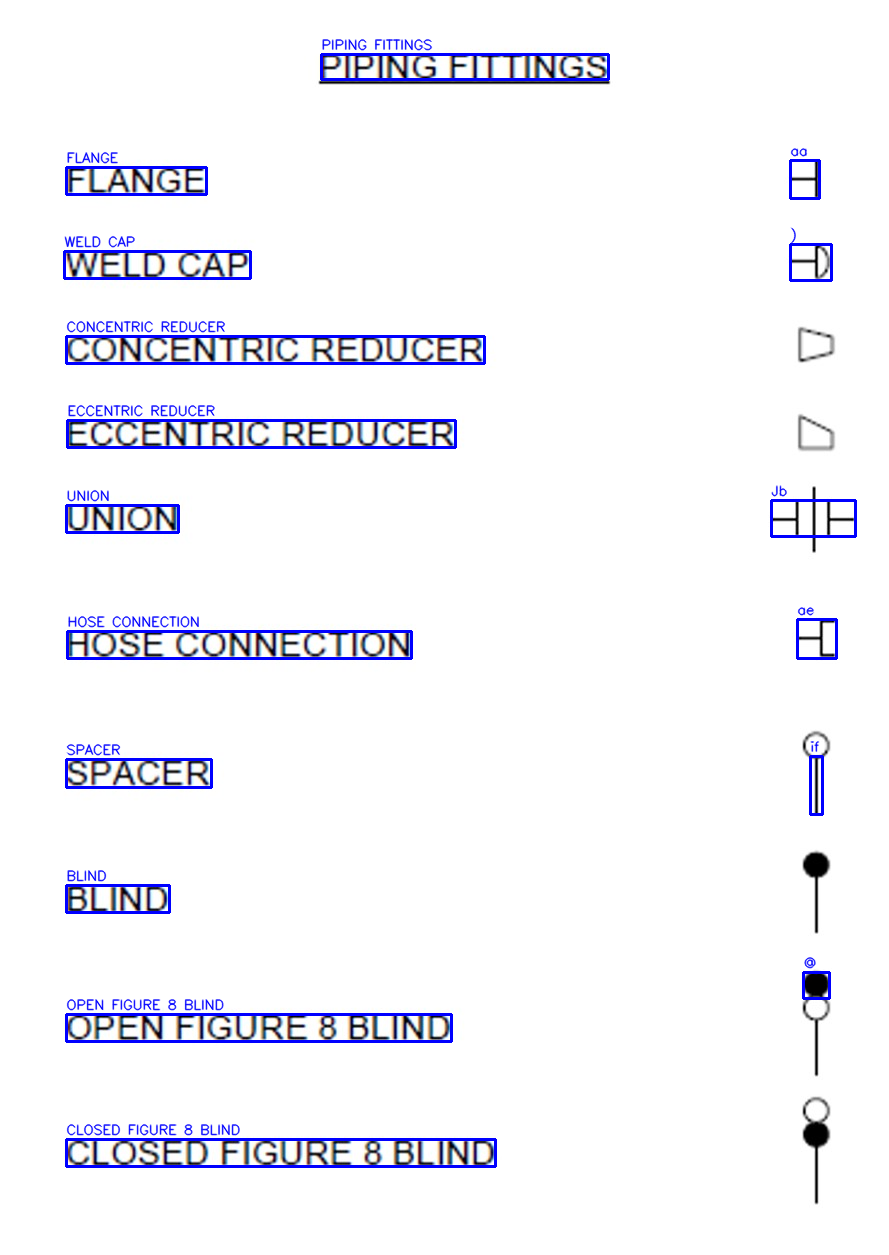Conexão: (764, 480, 862, 555), (796, 1093, 837, 1208), (798, 962, 834, 1079), (796, 725, 835, 820), (783, 235, 843, 285), (801, 848, 832, 934), (795, 318, 844, 370), (796, 611, 840, 664), (793, 408, 840, 454), (782, 159, 828, 201)
